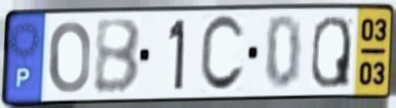0: (264, 13, 305, 93)
1: (165, 18, 186, 92)
B: (93, 16, 144, 96)
C: (197, 13, 247, 96)
O: (46, 19, 92, 96)
Q: (309, 13, 353, 90)
